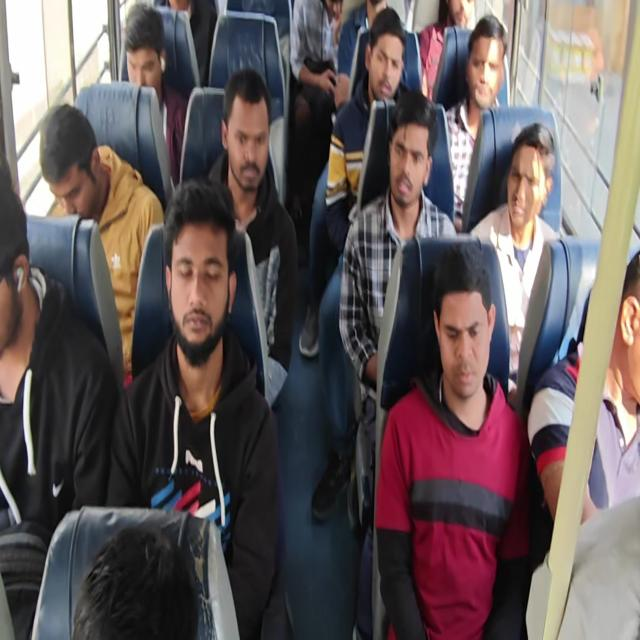person: (73, 512, 218, 640), (426, 276, 494, 400), (166, 215, 224, 348), (37, 115, 98, 219), (606, 250, 640, 427), (223, 83, 275, 191), (0, 188, 32, 346), (383, 109, 433, 206), (501, 141, 551, 237), (467, 25, 508, 109), (128, 12, 160, 86), (369, 37, 401, 103), (452, 0, 474, 30)
